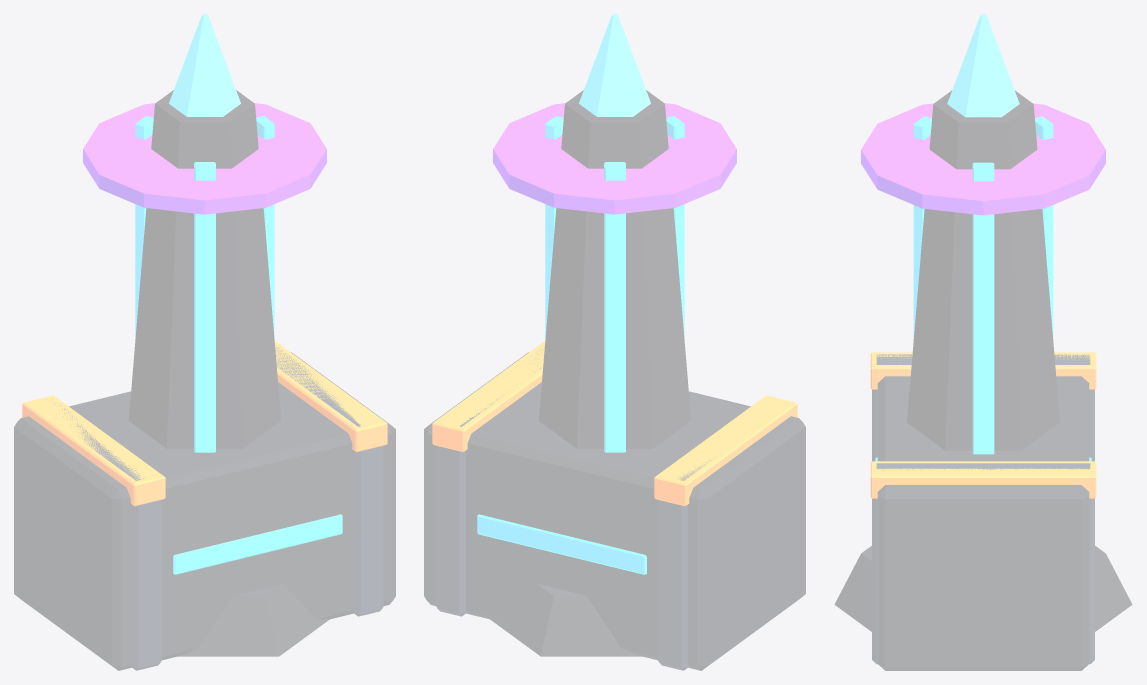
Rendered from map_props.glb.
The picture shows the model from 3 angles, left to right: view 1: azimuth 30°, elevation 25°; view 2: azimuth 150°, elevation 25°; view 3: azimuth 270°, elevation 25°; orthographic projection.
Parts seen in each view (by area): view 1: Prop_CargoCrate, Prop_HoloPylon; view 2: Prop_CargoCrate, Prop_HoloPylon; view 3: Prop_HoloPylon, Prop_CargoCrate.
Boxes of the visible parts, box(x1,y1,x2,y2) form: Prop_CargoCrate: box(14, 341, 395, 670); Prop_HoloPylon: box(83, 14, 329, 656); Prop_CargoCrate: box(424, 341, 805, 670); Prop_HoloPylon: box(490, 14, 736, 656); Prop_HoloPylon: box(834, 14, 1132, 631); Prop_CargoCrate: box(870, 352, 1096, 670).
Size of the model in its own units: 2.1 by 4.14 by 1.9.
